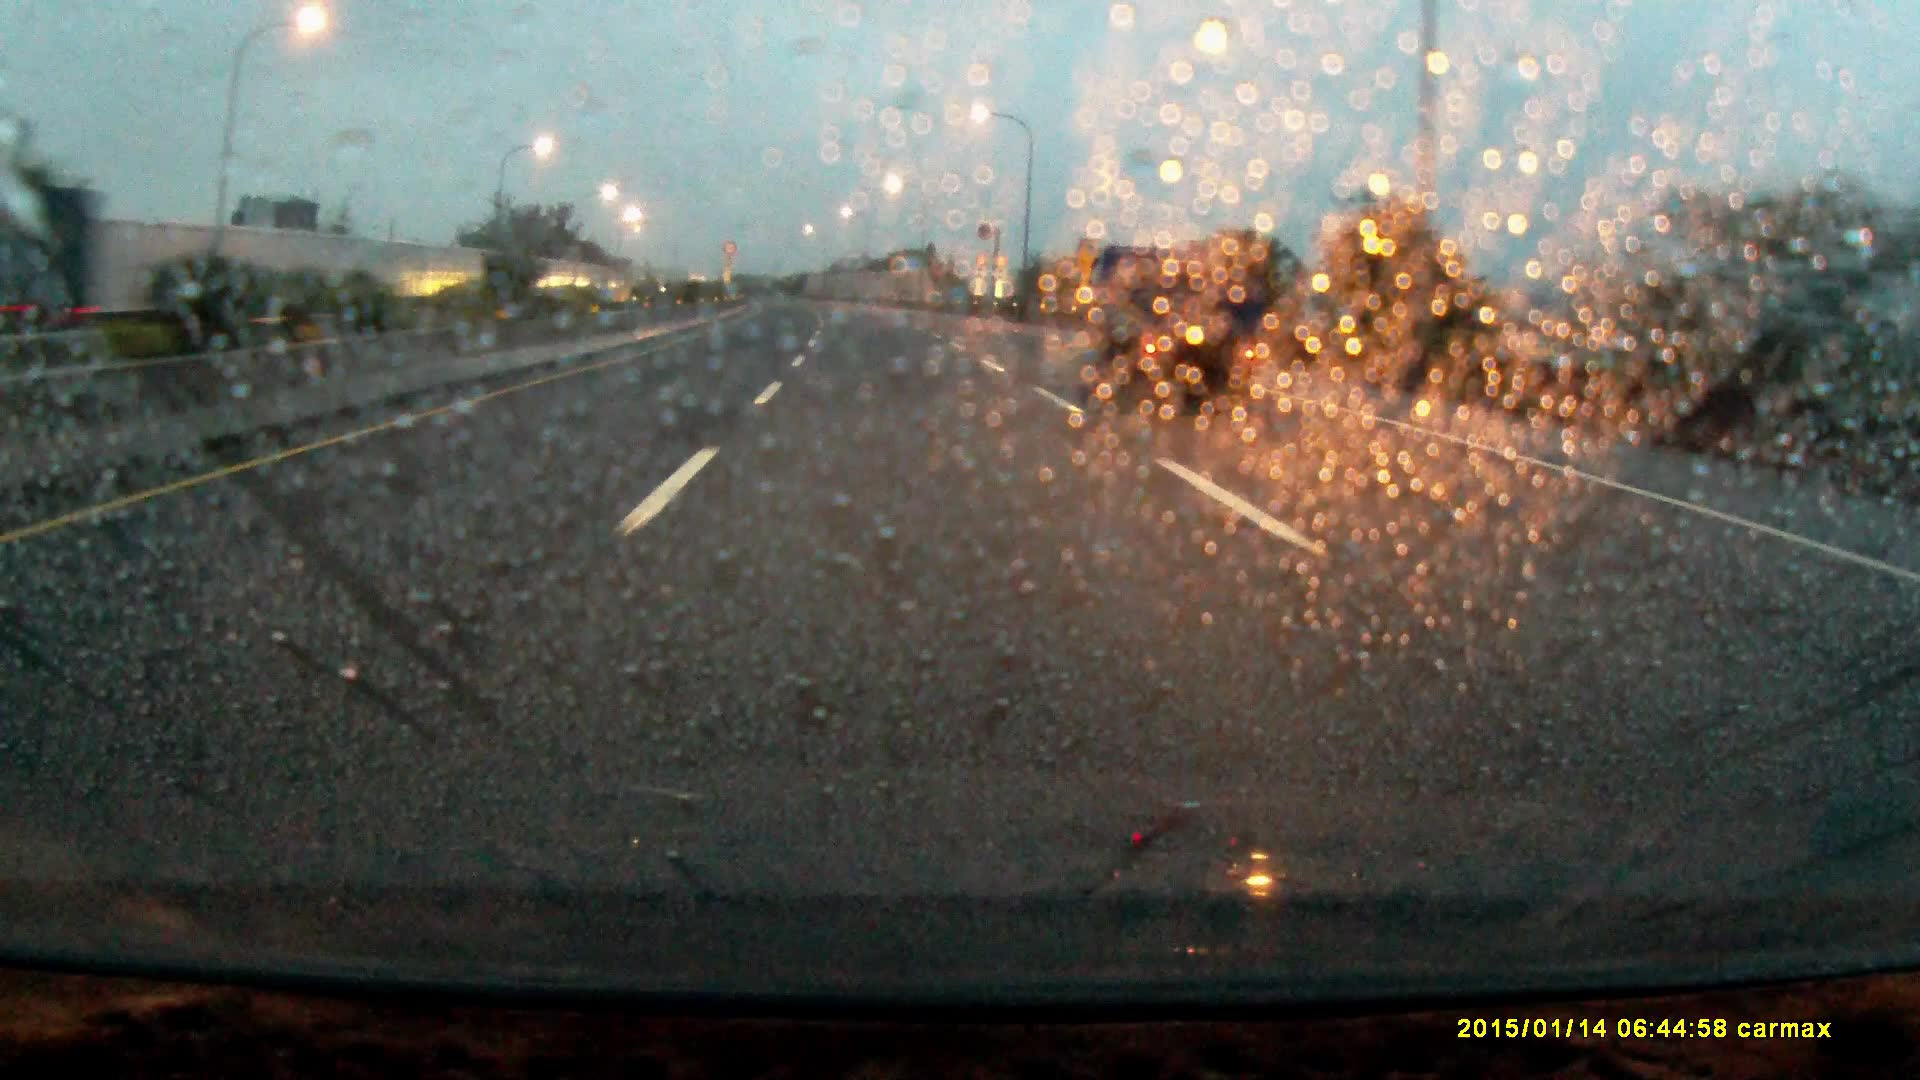vehicle: (1077, 247, 1255, 410)
